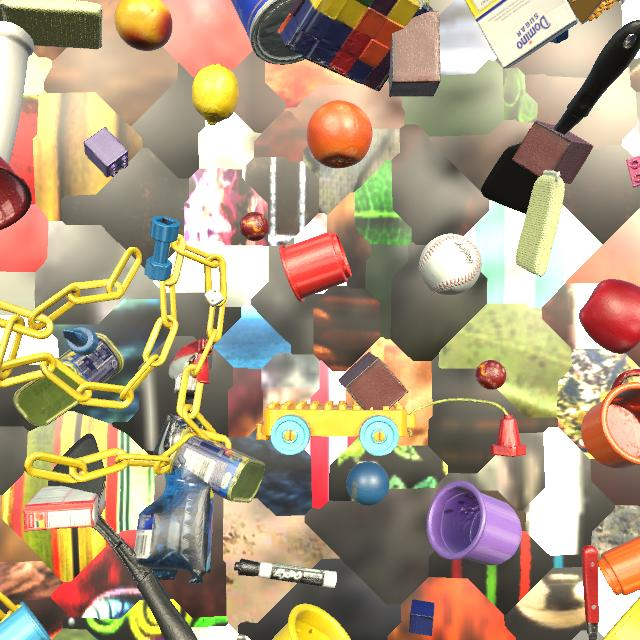ycb_002_master_chef_can: (231, 0, 304, 65)
ycb_004_sugar_box: (465, 0, 578, 69)
ycb_009_gelatin_box: (23, 485, 106, 531)
ycb_010_potted_meat_can: (13, 333, 124, 427), (166, 429, 265, 503)
ycb_013_apple: (579, 279, 640, 354)
ycb_014_lemon: (192, 64, 239, 125)
ycb_015_peach: (114, 0, 173, 51)
ycb_017_orange: (307, 100, 373, 168)
